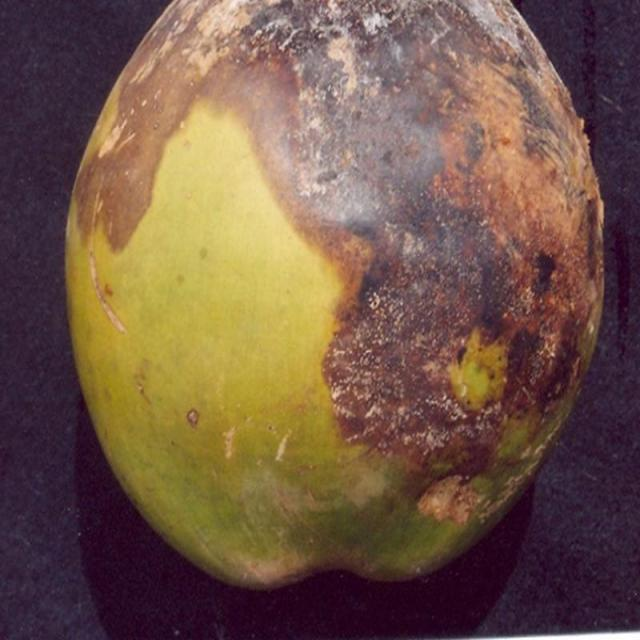damaged: (63, 0, 606, 594)
